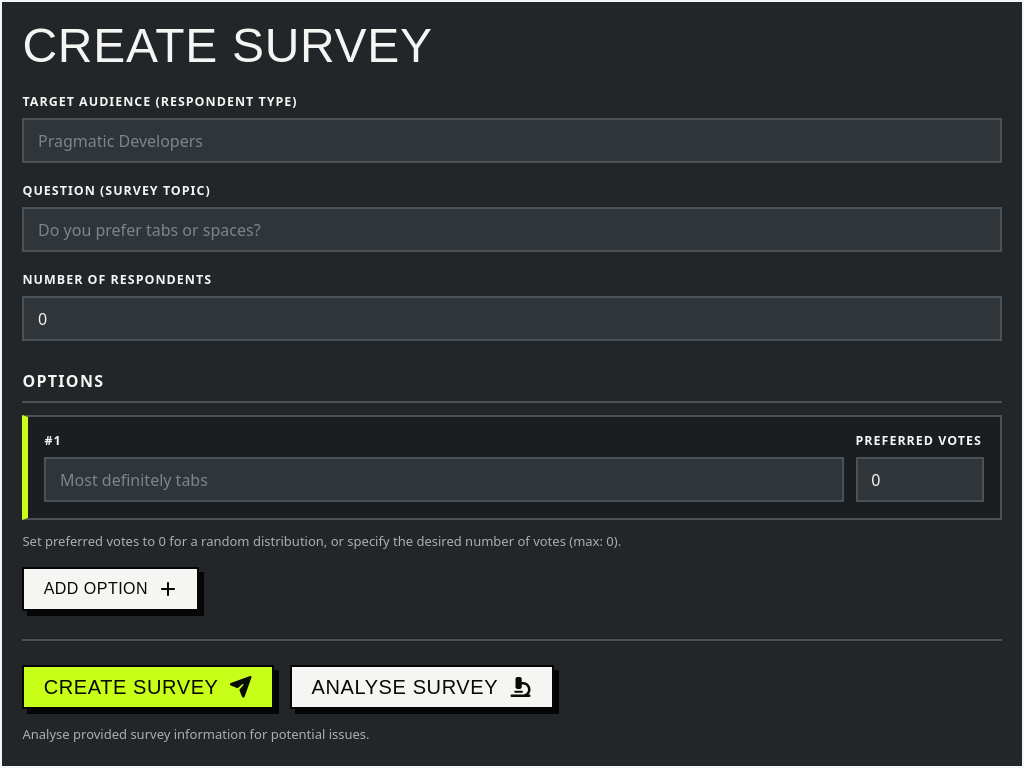
Test: CreateSurvey Component › Form Submission › should keep the analysis button disabled after successful submission
Click the button "Create Survey" at (148, 687), box left=22, top=665, right=274, bottom=709
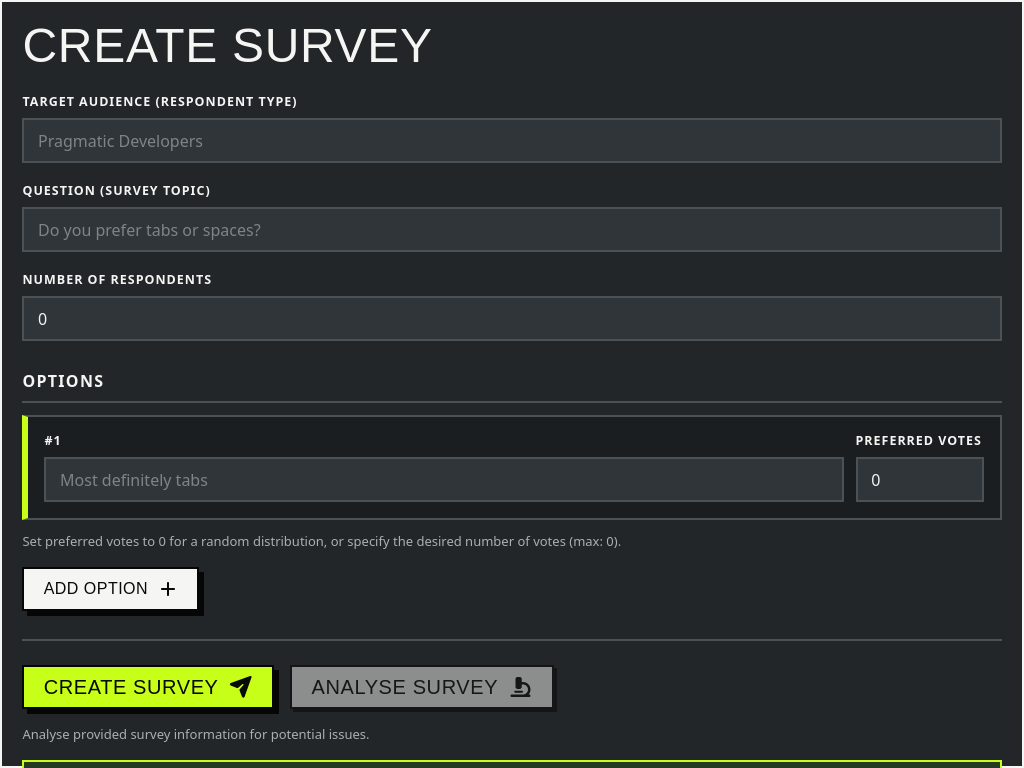
Expected: the button "Analyse Survey" is disabled, left=290, top=665, right=554, bottom=709
